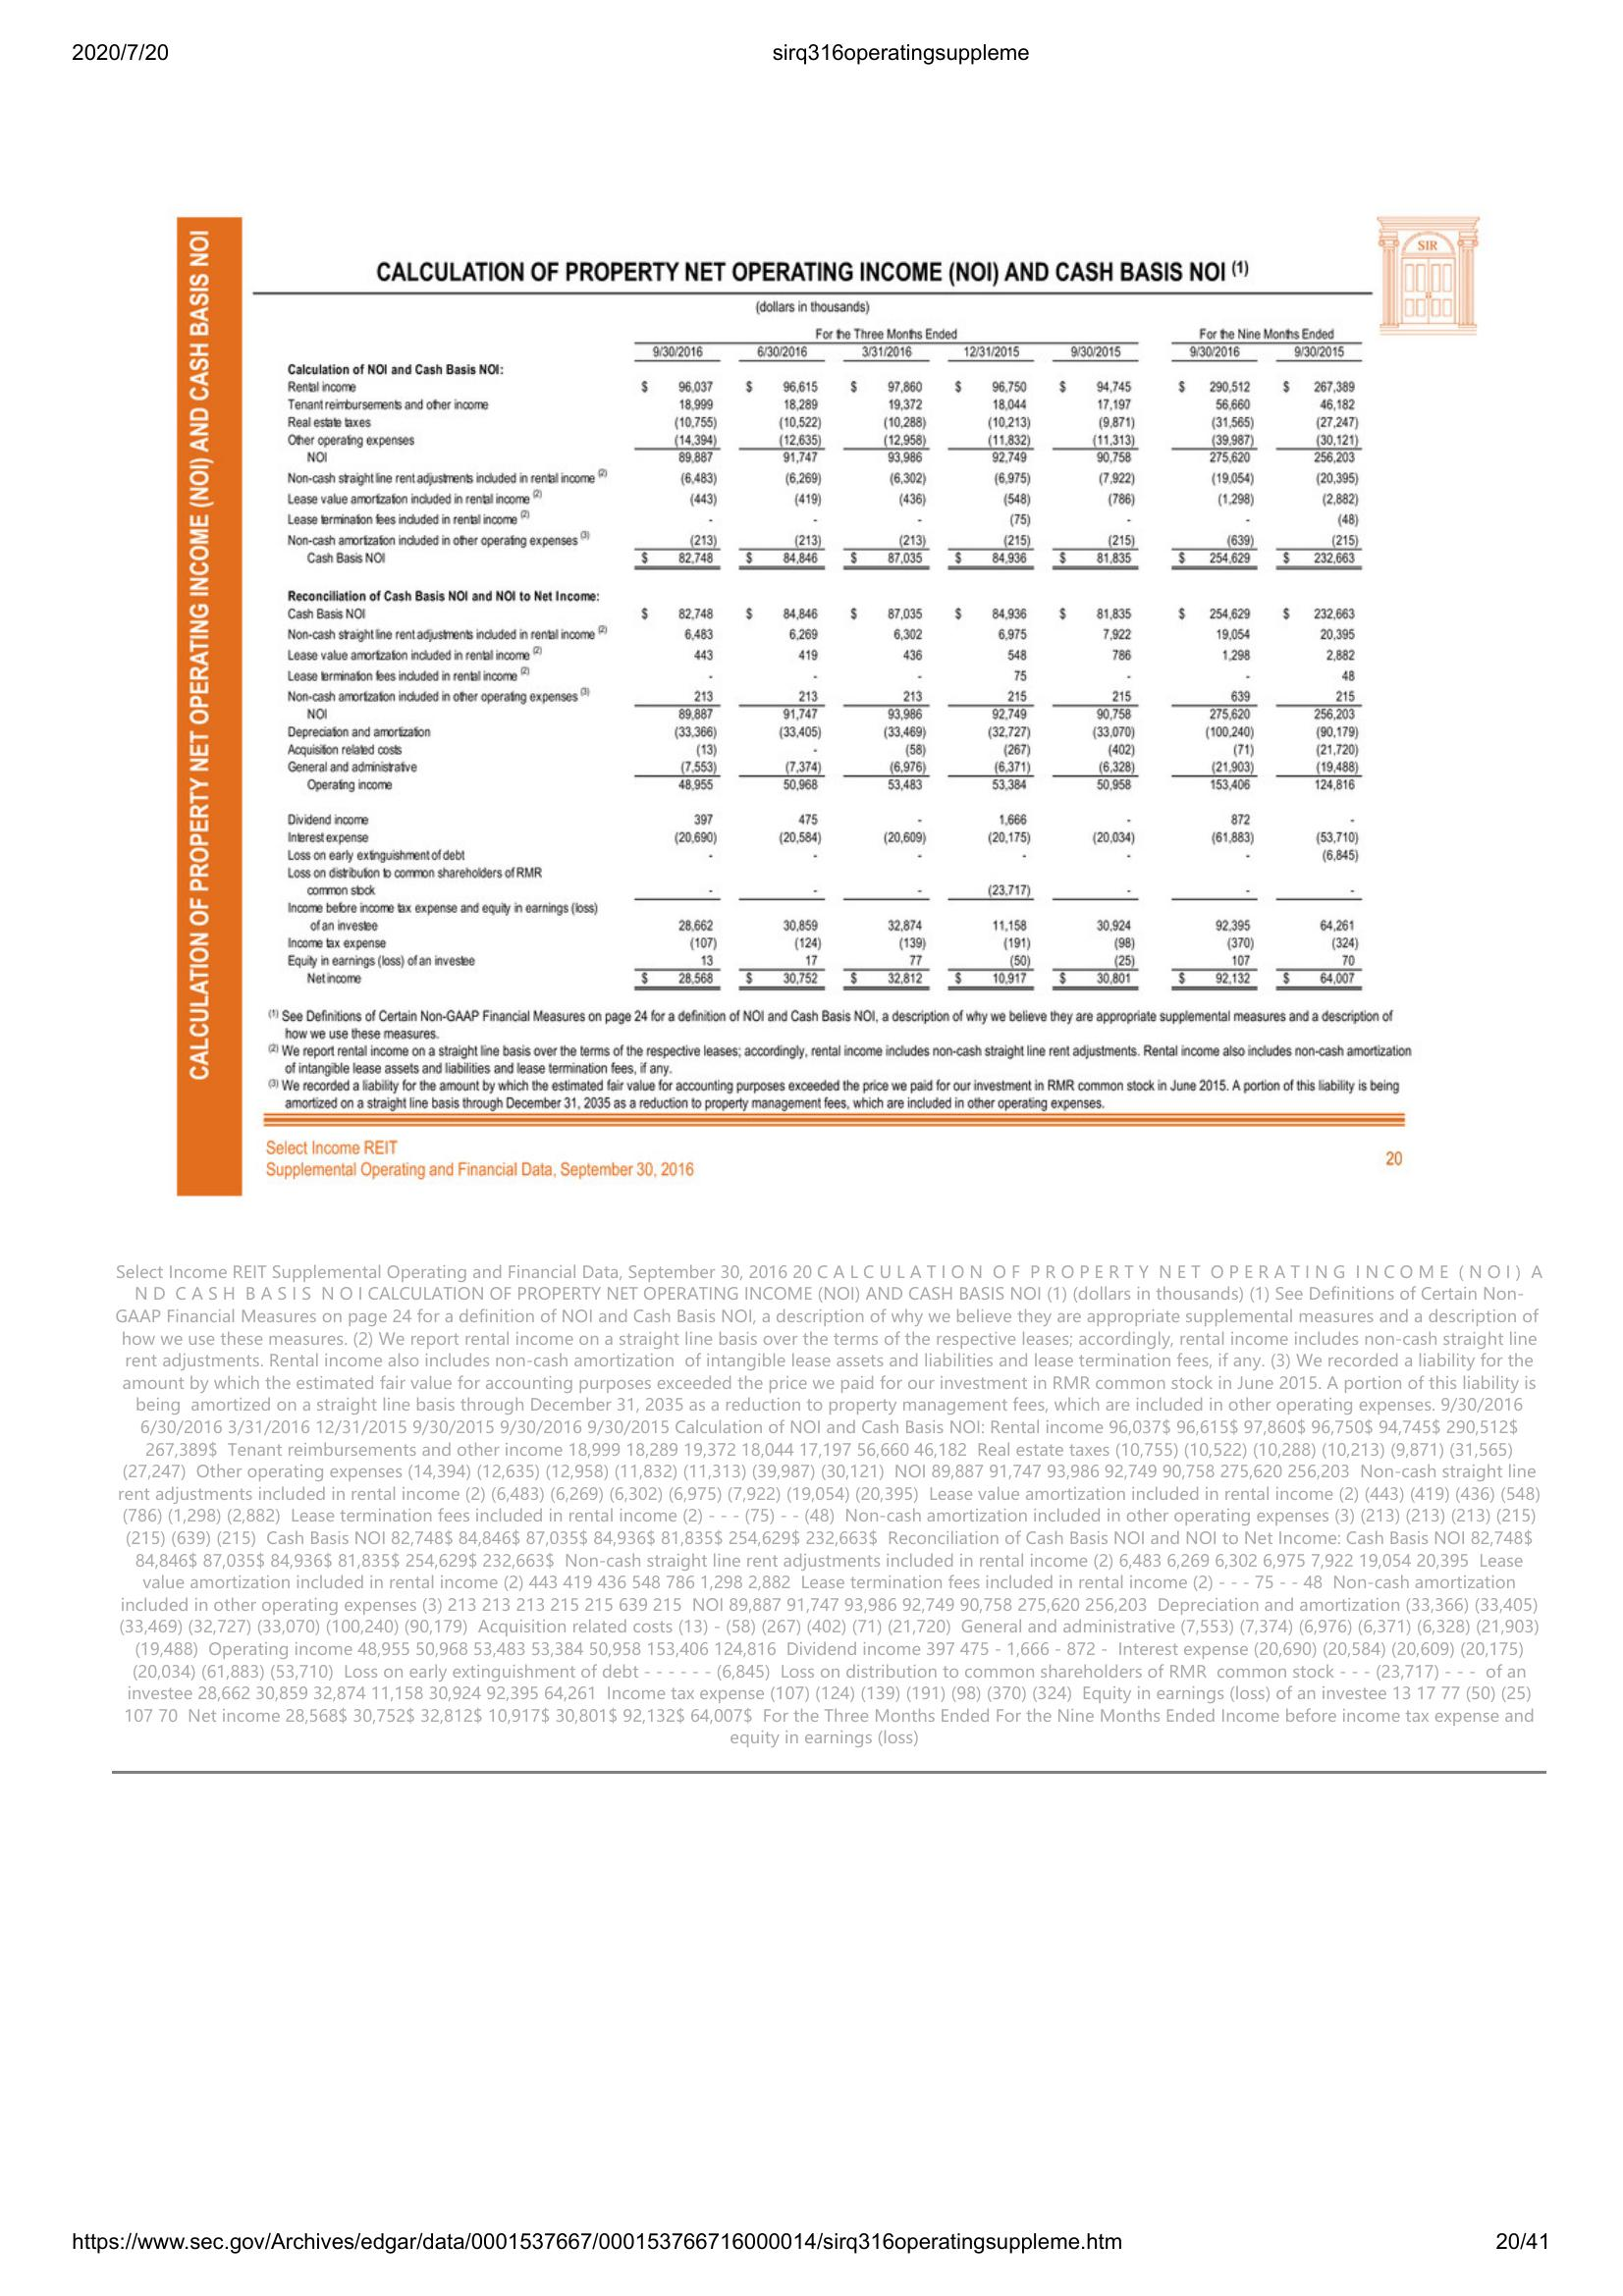table: (270, 293, 1370, 1002)
